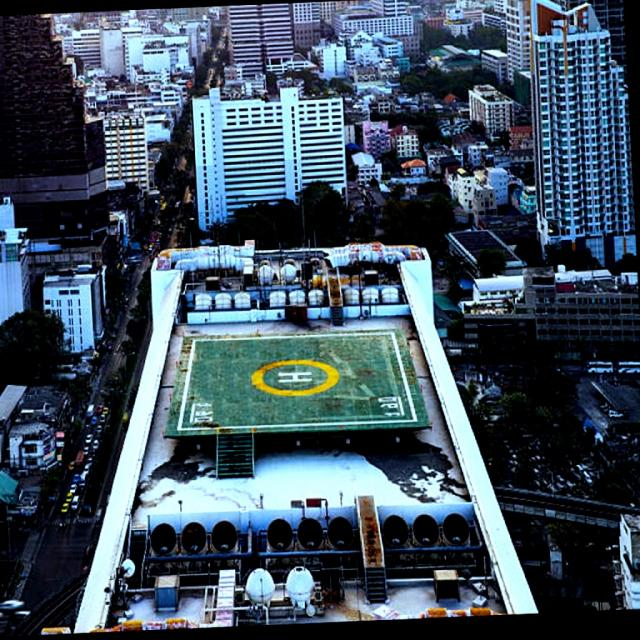helipad: (248, 355, 341, 398)
